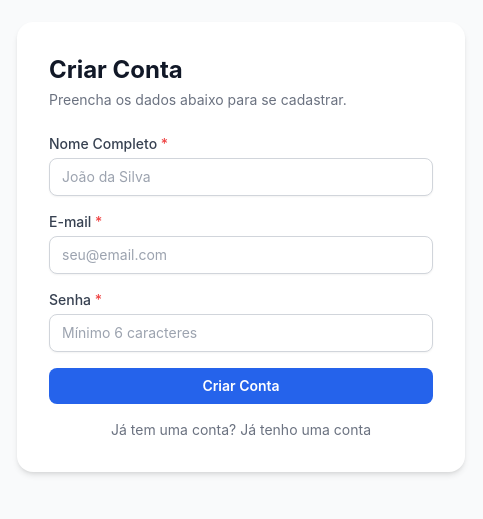
Scenario: CadastroPage — validação client-side › exibe erro quando senha < 6 caracteres
The image size is (483, 519).
Type "A" into the field labelled "Nome Completo *".
click(241, 177); type("A")  # box top-left (49, 158), bottom-right (433, 196)
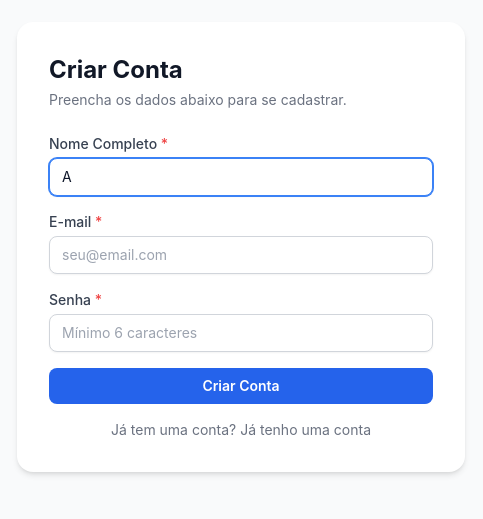
Type "a@a.com" into the field labelled "E-mail *".
click(241, 255); type("a@a.com")  # box top-left (49, 236), bottom-right (433, 274)
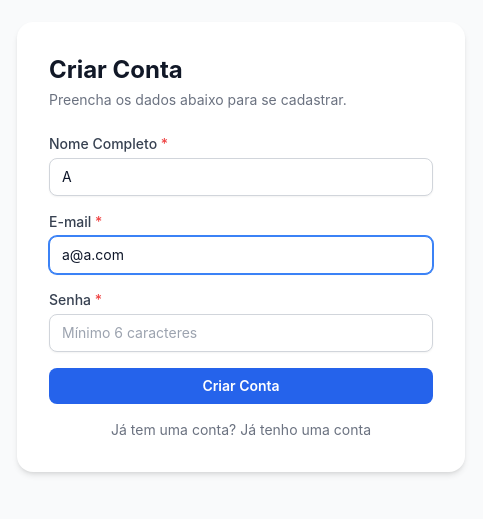
Type "123" into the password field labelled "Senha *".
click(241, 333); type("123")  # box top-left (49, 314), bottom-right (433, 352)
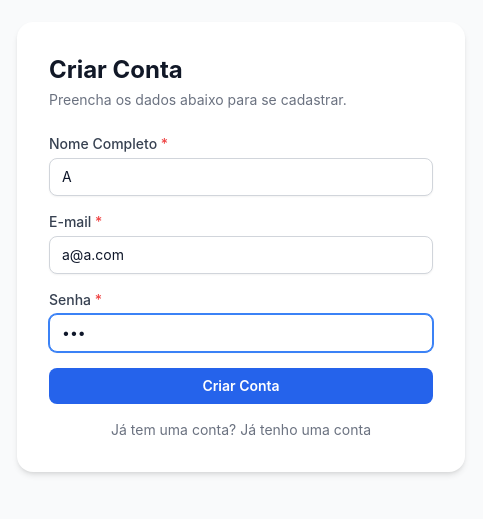
Click the button "Criar Conta".
click(241, 386)  # box top-left (49, 368), bottom-right (433, 404)
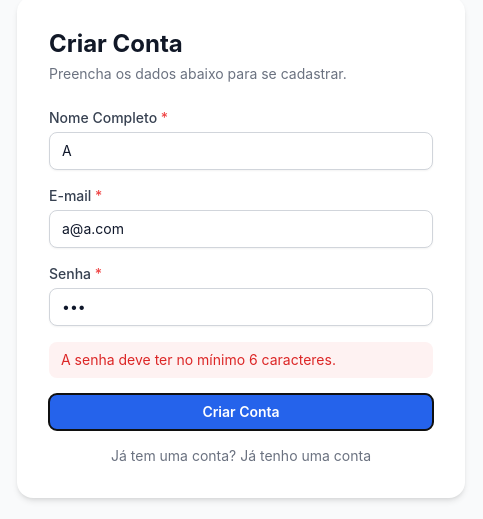
Expected: the text "A senha deve ter no mínimo 6 caracteres." is shown, top-left (49, 342), bottom-right (433, 378)
